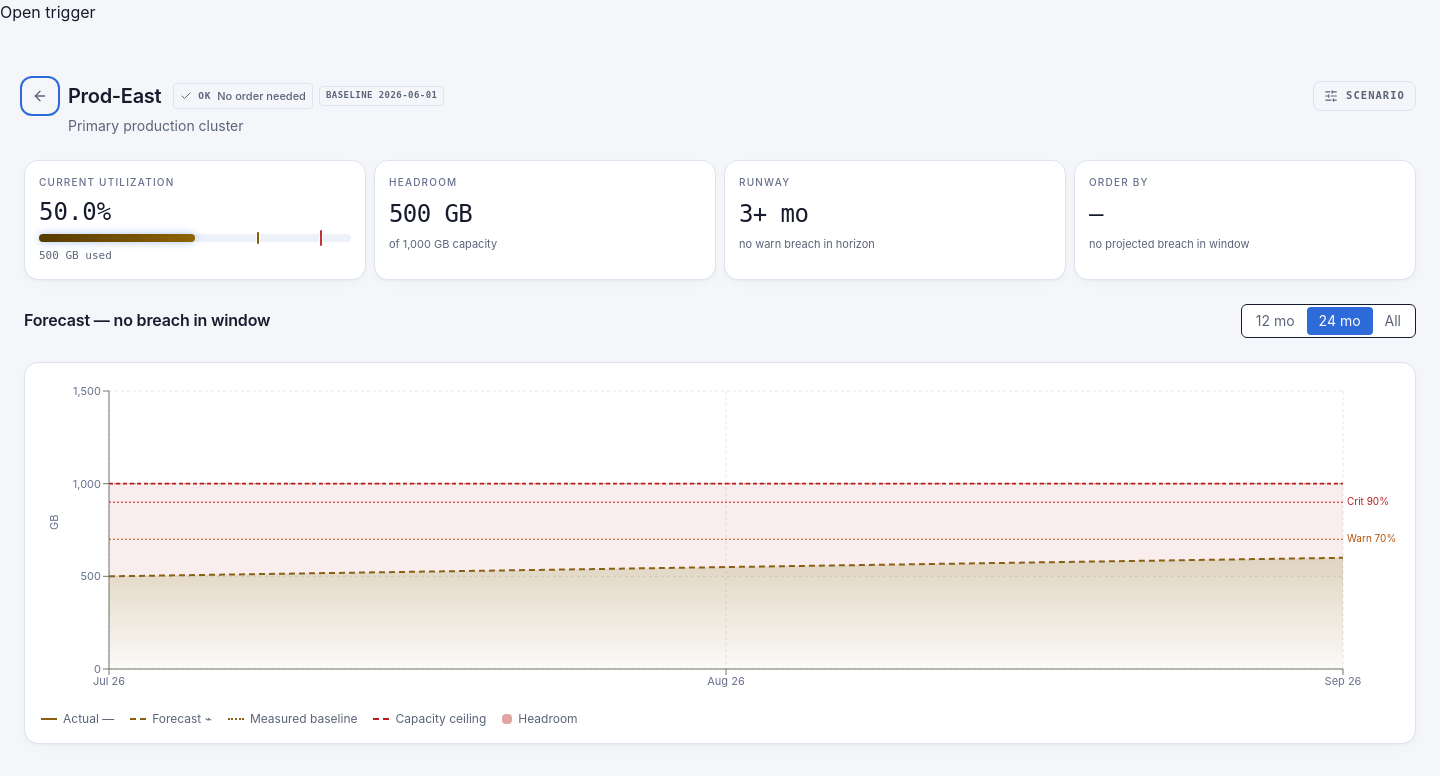
it: <ClusterPanel> › posts a compound stack and names every step in the indicator and announcement (#323)
Check: the element with test id "kpi-strip" is shown, box [24,160,1416,280]
Click the button with test id "scenario-button".
click(1364, 96)  # box [1313,81,1416,111]
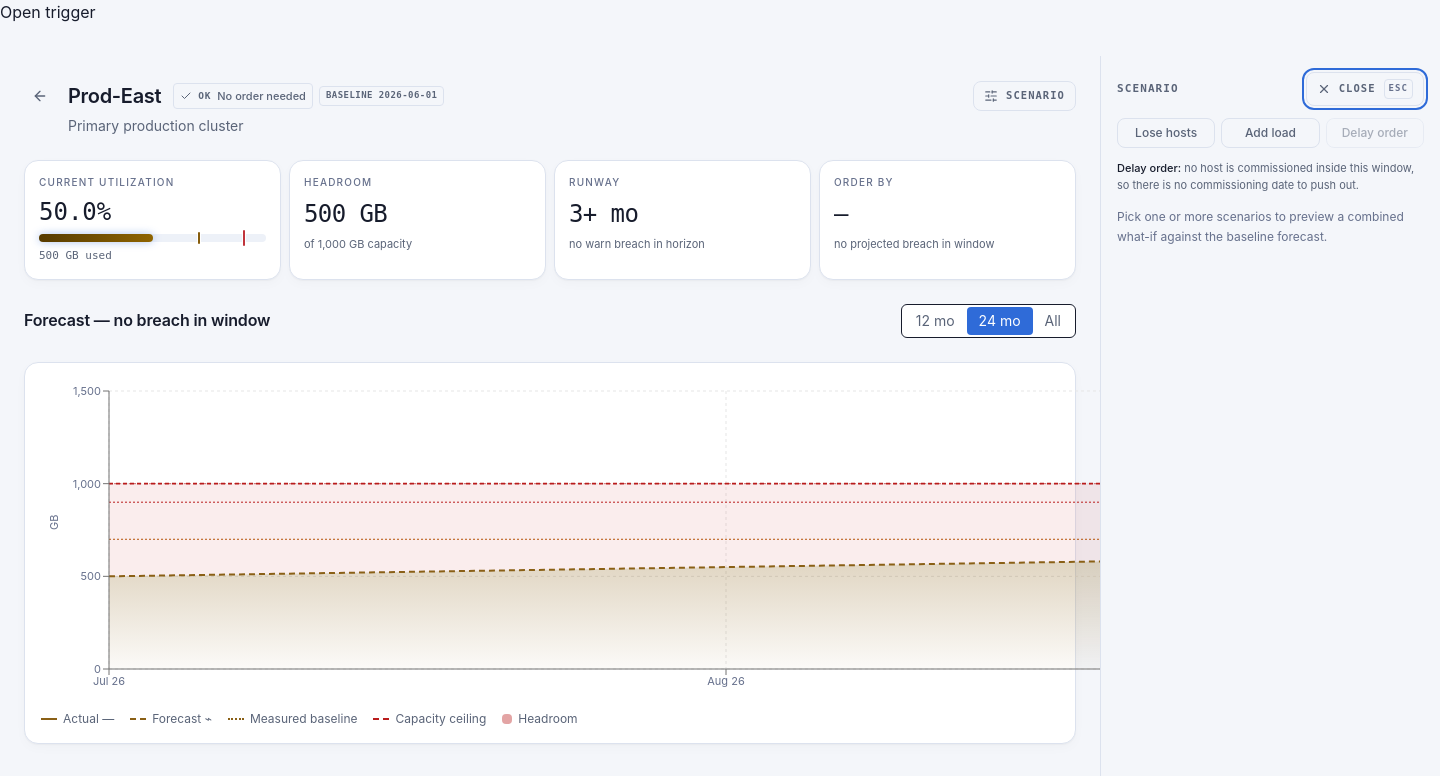
Click the button with test id "scenario-preset-lose_hosts".
click(1166, 132)  # box [1117,118,1215,148]
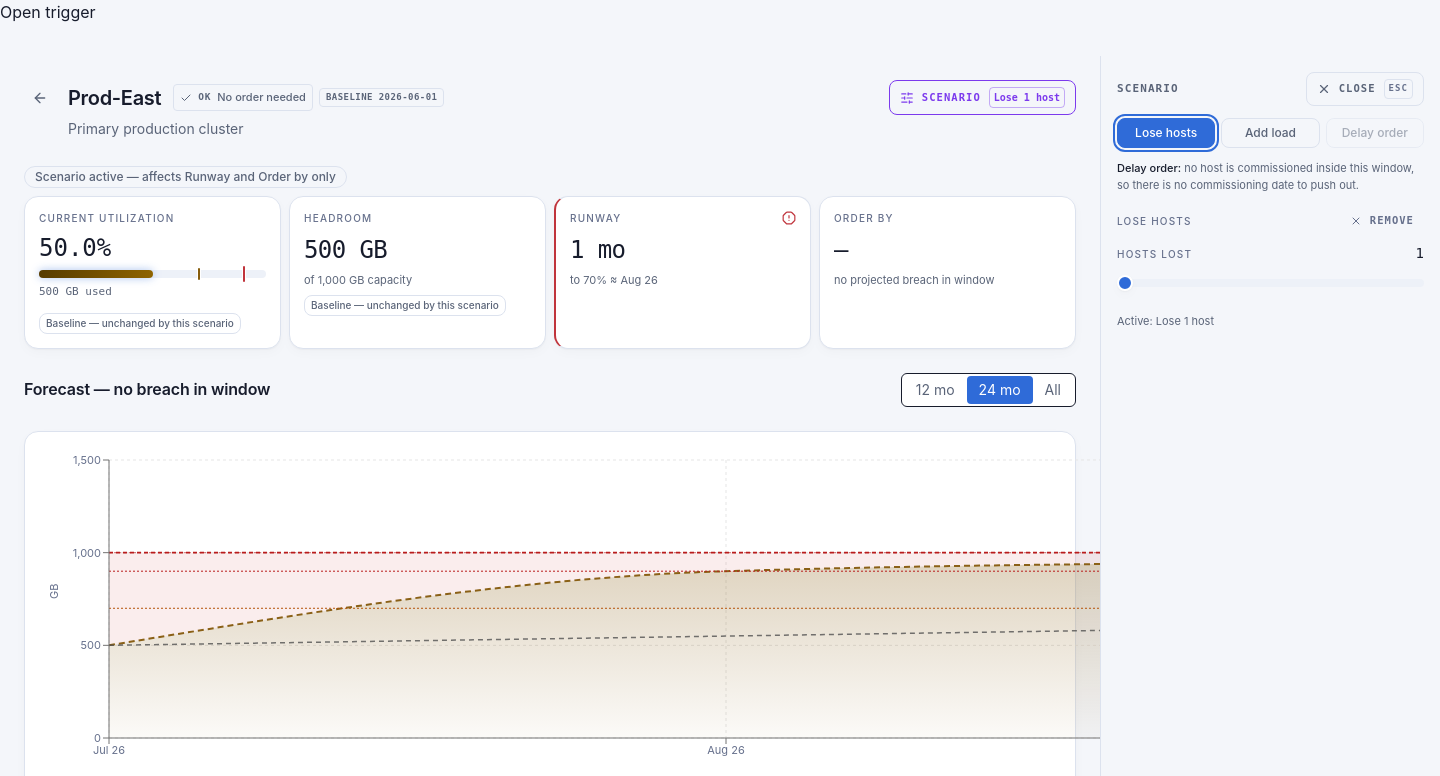
Click the button with test id "scenario-preset-add_vms".
click(1270, 132)  # box [1221,118,1320,148]
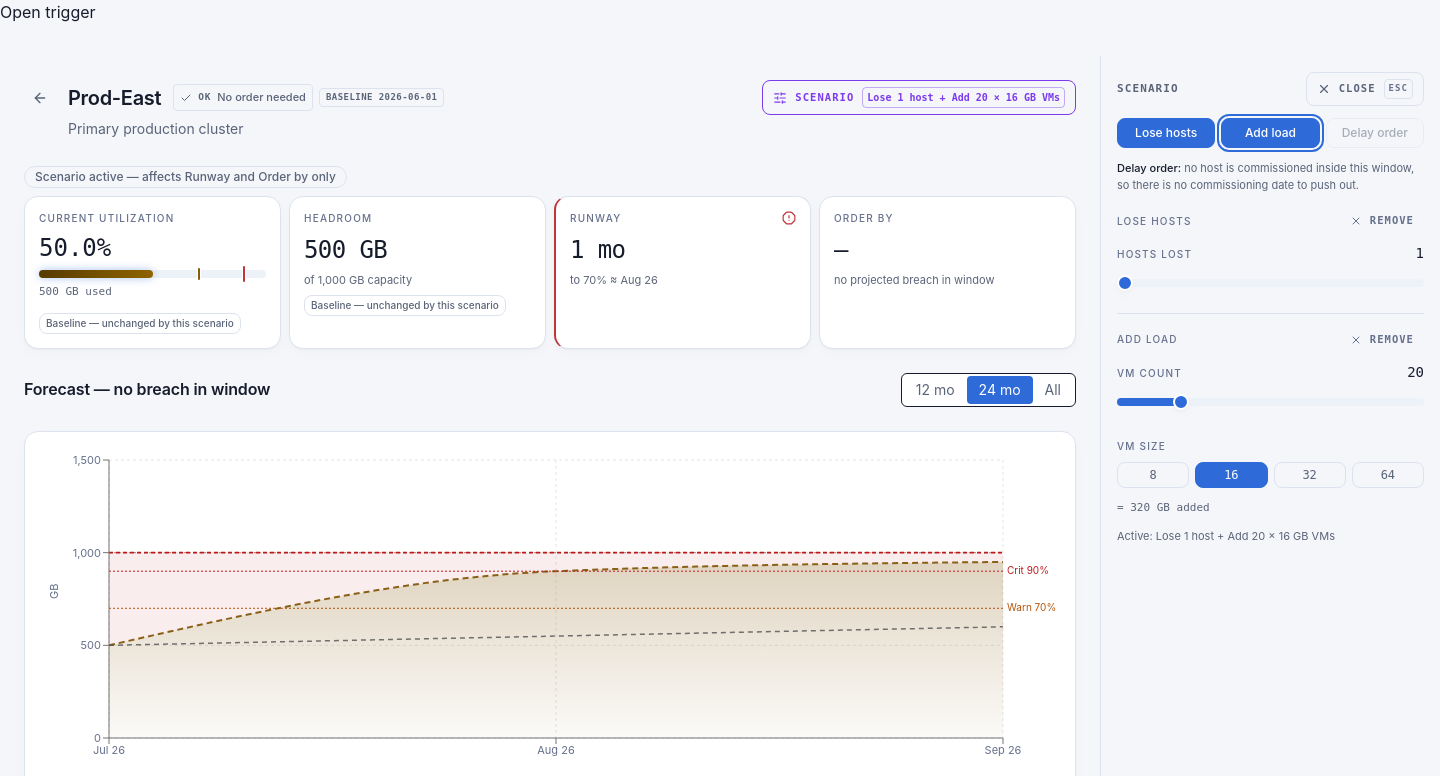
Check: the text with test id "scenario-active-indicator" reads "Lose 1 host + Add 20 × 16 GB VMs", box [867,92,1060,103]
